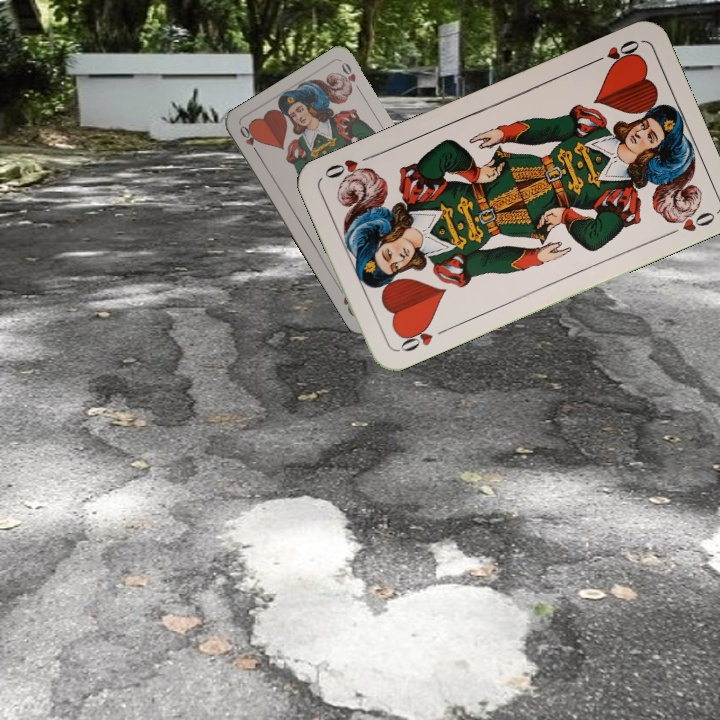HO: (394, 320, 450, 355), (586, 35, 642, 69), (236, 121, 262, 158)
